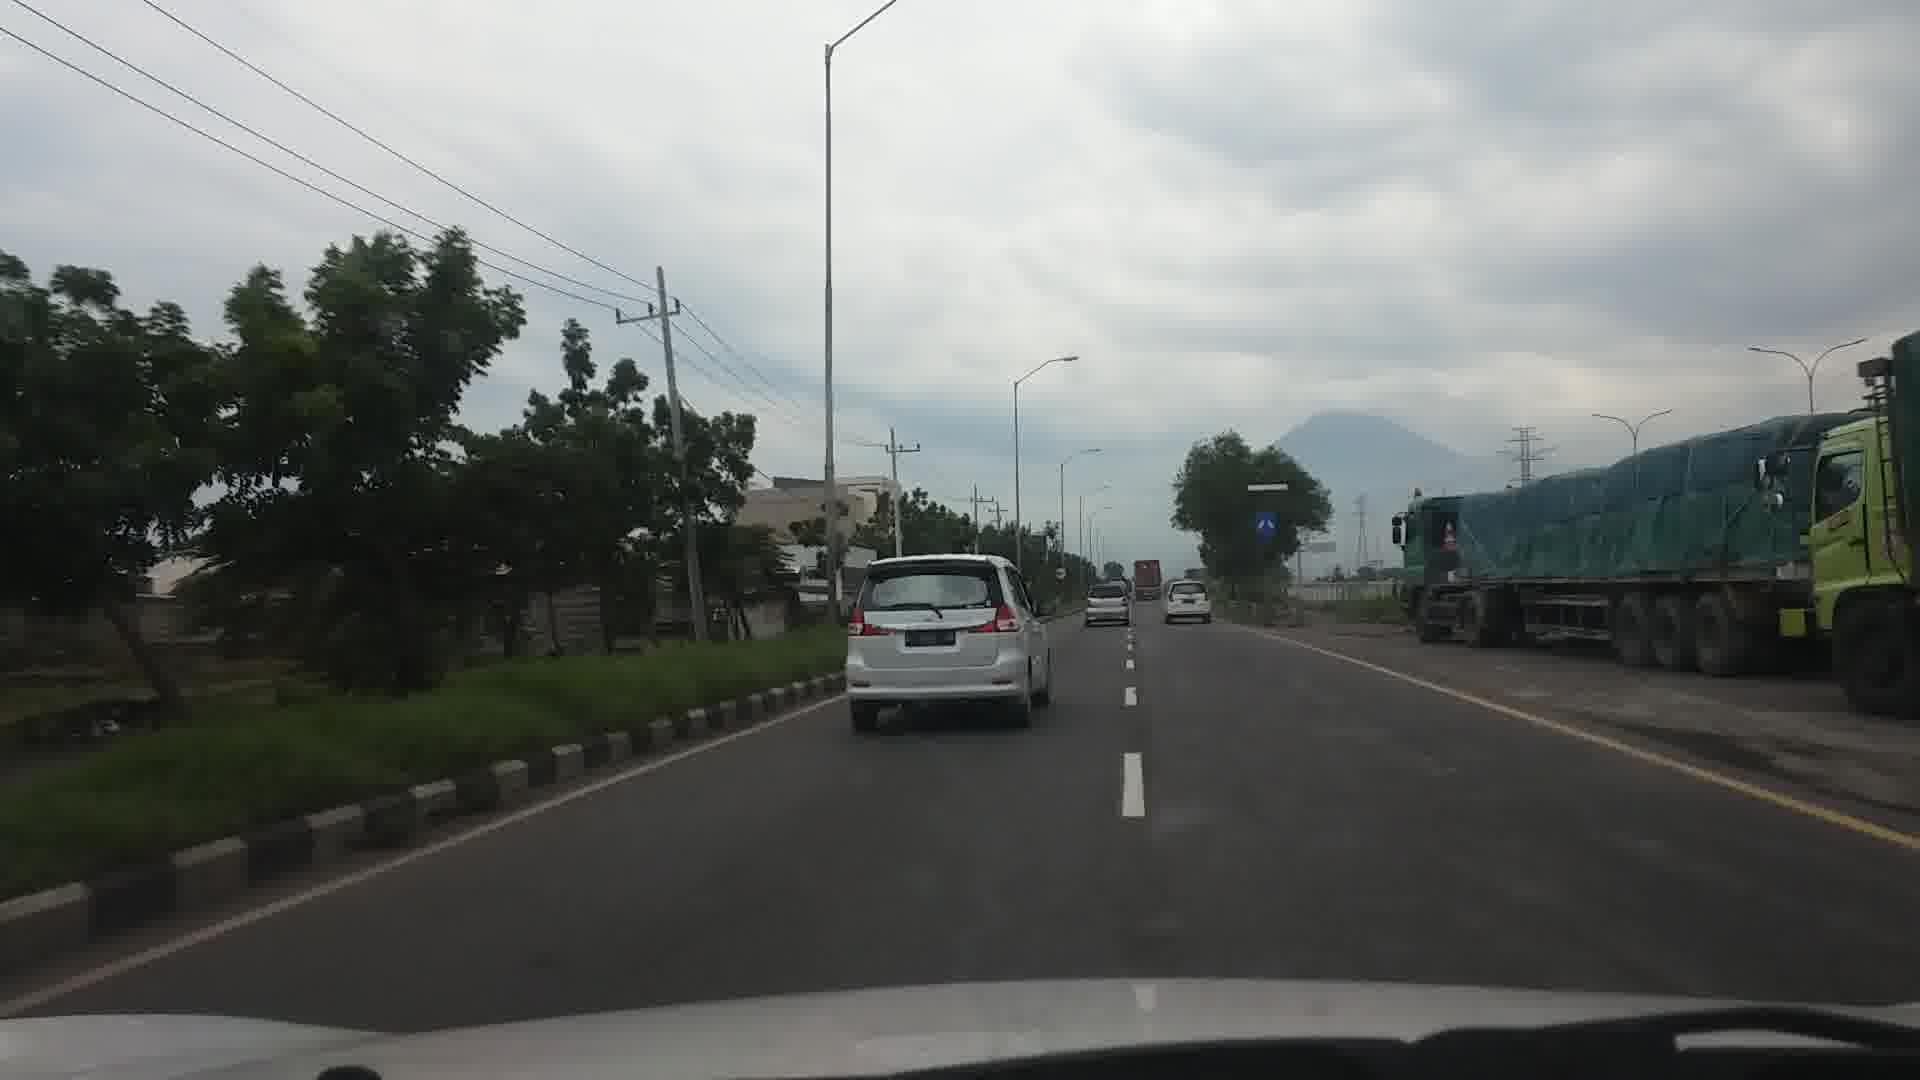plate_positive: (905, 630, 955, 646)
